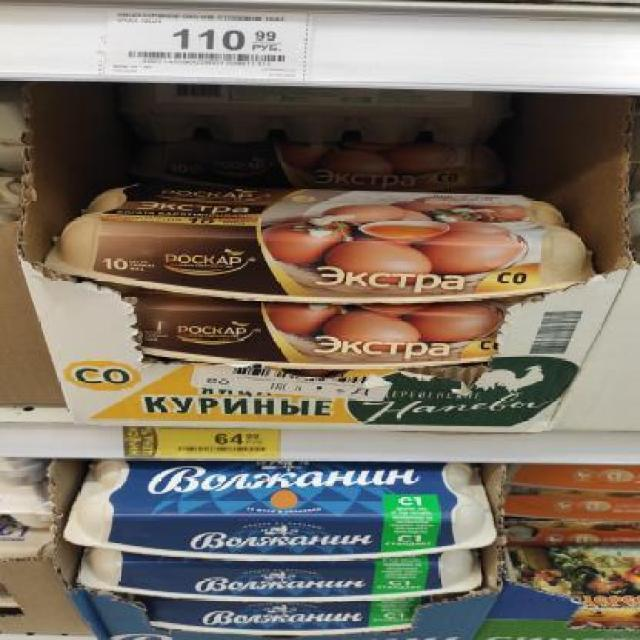Egg: (41, 185, 598, 304), (131, 300, 507, 372), (131, 141, 507, 192)
